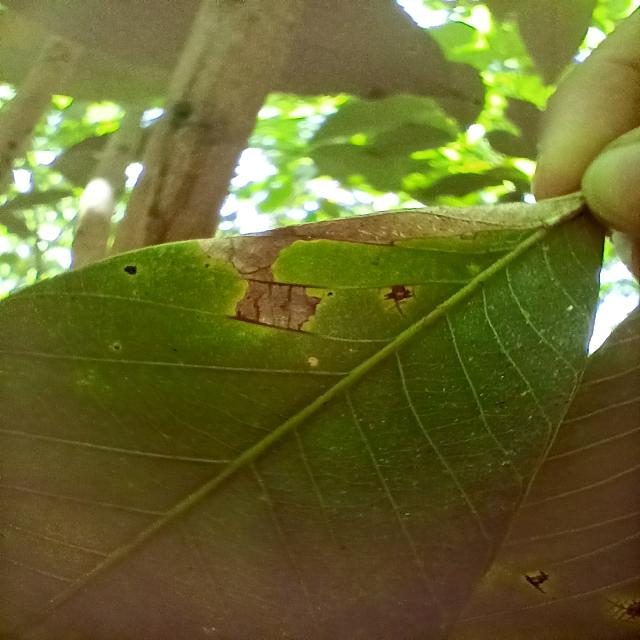Colletotrichum: (124, 265, 138, 276)
Corynespora: (229, 314, 307, 333), (384, 284, 416, 320), (602, 596, 640, 623), (245, 279, 309, 289), (524, 570, 550, 594)
Leaf-Blight: (199, 192, 586, 330)
